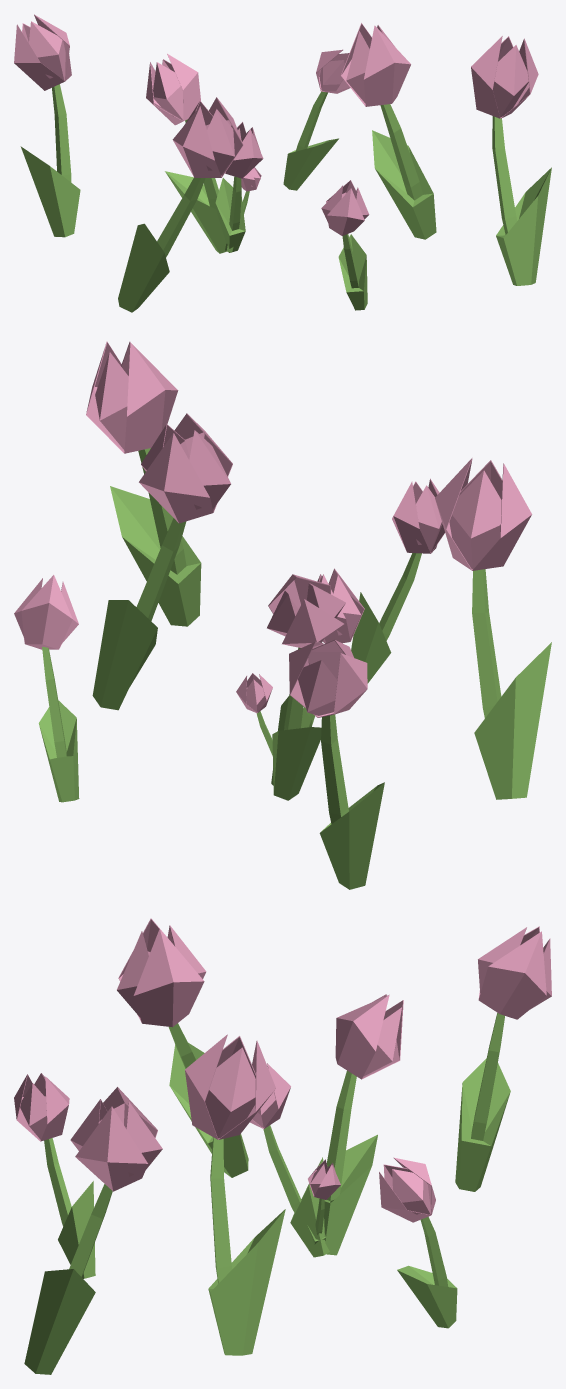
File: FlowerPink01.fbx
The picture shows the model from 3 angles, top to bottom: view 1: azimuth 30°, elevation 25°; view 2: azimuth 150°, elevation 25°; view 3: azimuth 270°, elevation 25°; orthographic projection. The views are drawn at different scales.
Parts seen in each view (by area): view 1: Circle.516; view 2: Circle.516; view 3: Circle.516.
Boxes of the visible parts, x1,y1,x2,y2 form: Circle.516: (14,14,551,312); Circle.516: (14,341,551,889); Circle.516: (14,918,551,1374).
Bounding box in the file's own units: 89.92 × 52.87 × 88.45.
